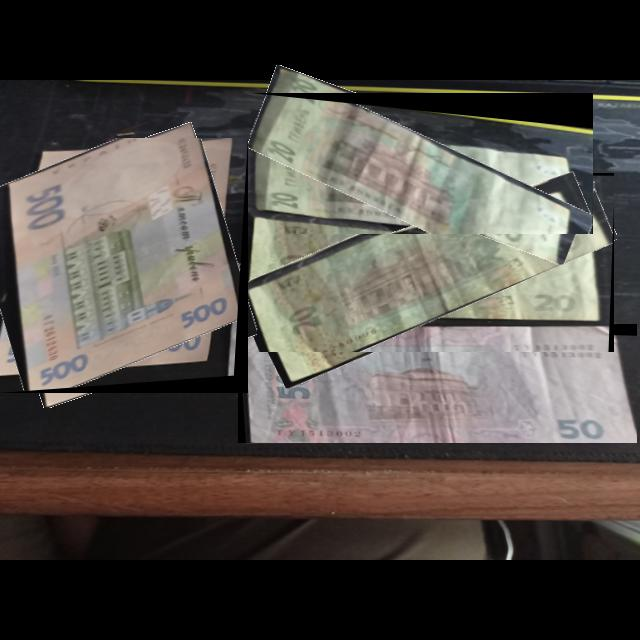20uah: (241, 173, 615, 353), (250, 93, 594, 235)
500uah: (0, 138, 249, 394)
50uah: (238, 324, 638, 444)
